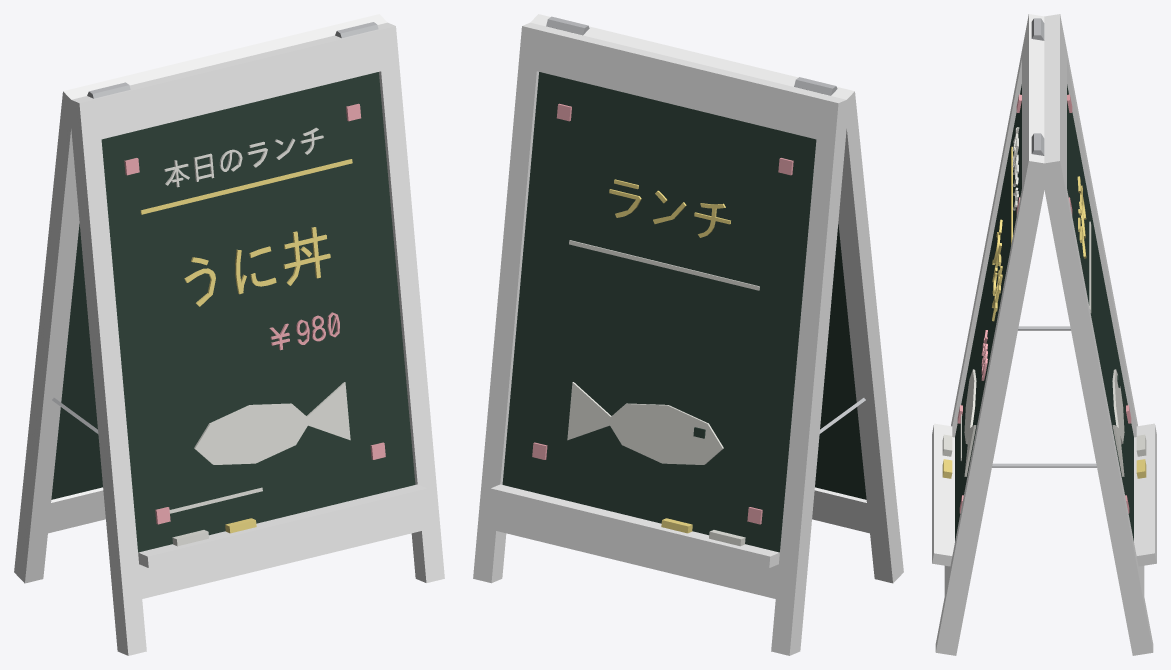
File: a_frame_sign.glb
The picture shows the model from 3 angles, left to right: view 1: azimuth 30°, elevation 25°; view 2: azimuth 150°, elevation 25°; view 3: azimuth 270°, elevation 25°; orthographic projection. The views are drawn at different scales.
Visible parts, largest first — view 1: a_frame_sign_body; view 2: a_frame_sign_body; view 3: a_frame_sign_body.
Part boxes in pixels (<box>): a_frame_sign_body: <box>14,14,444,655</box>; a_frame_sign_body: <box>473,14,903,655</box>; a_frame_sign_body: <box>932,14,1156,655</box>.
Size of what is drawn, in the model's own units: 0.6 by 0.9484 by 0.3878.
